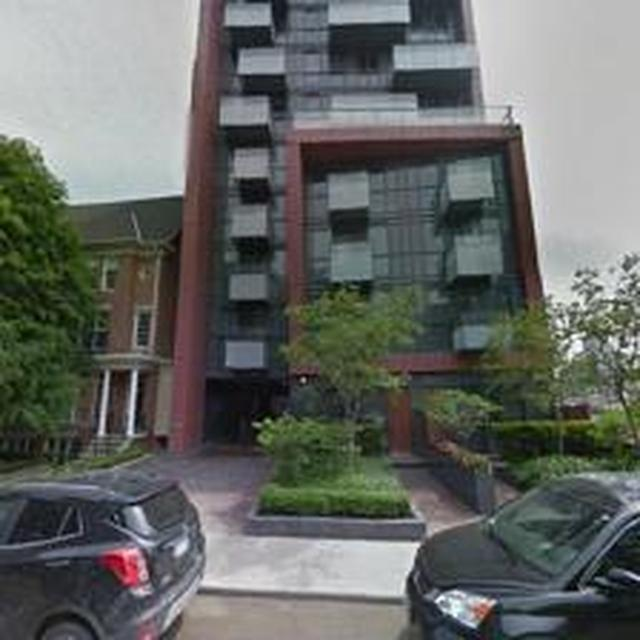building: (167, 0, 550, 462), (65, 191, 182, 451)
